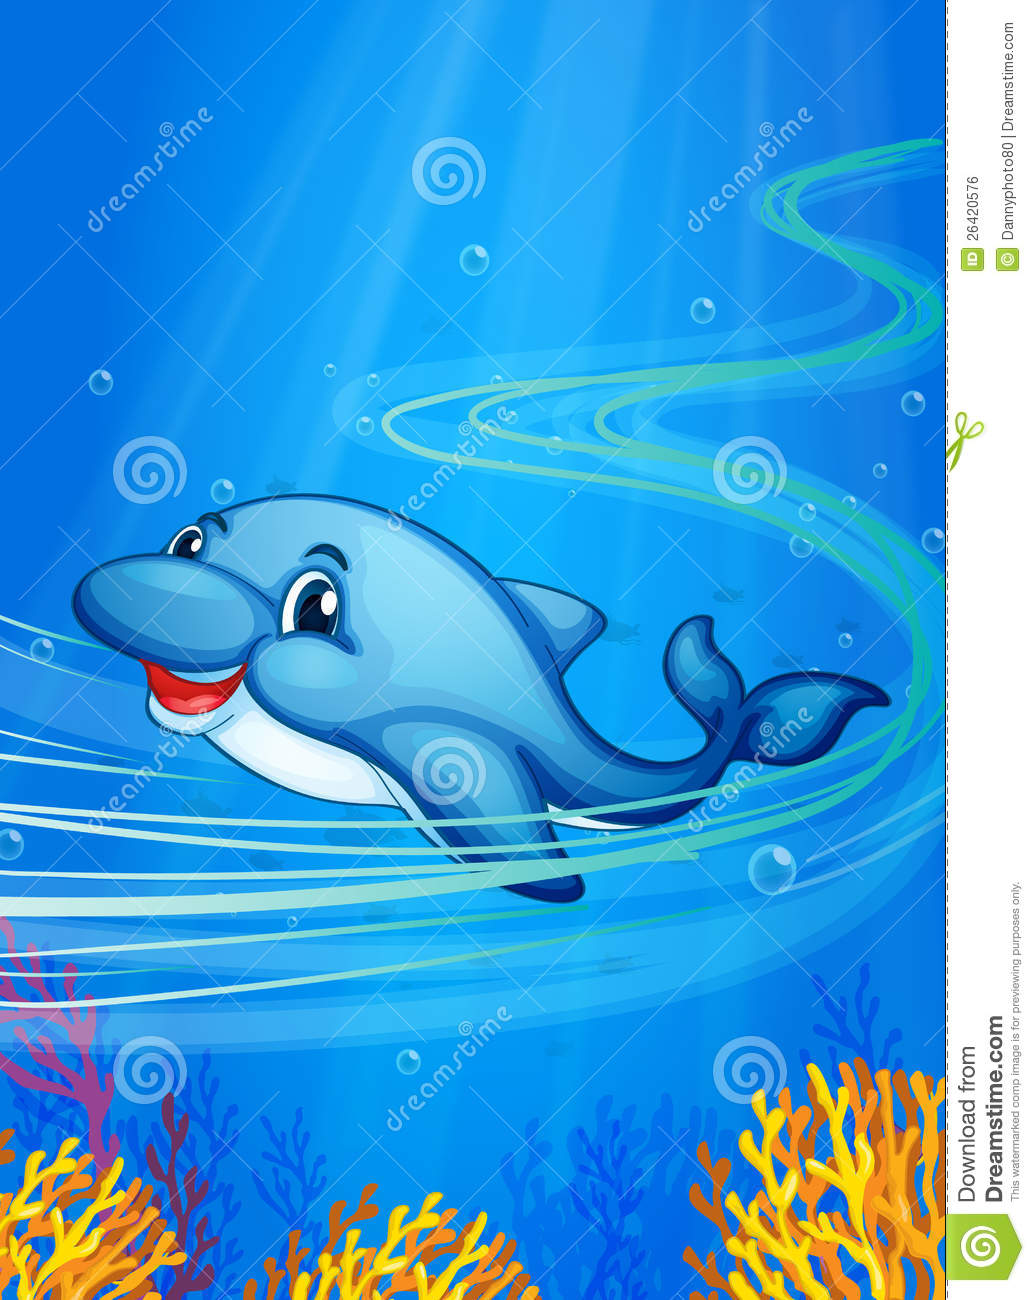dolphin: (61, 476, 899, 908)
